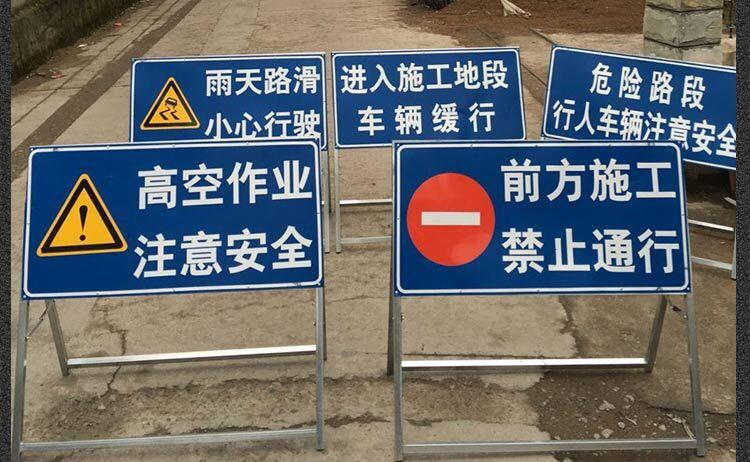sign: (396, 143, 707, 450), (26, 148, 331, 428), (335, 57, 526, 134), (551, 48, 715, 127)
